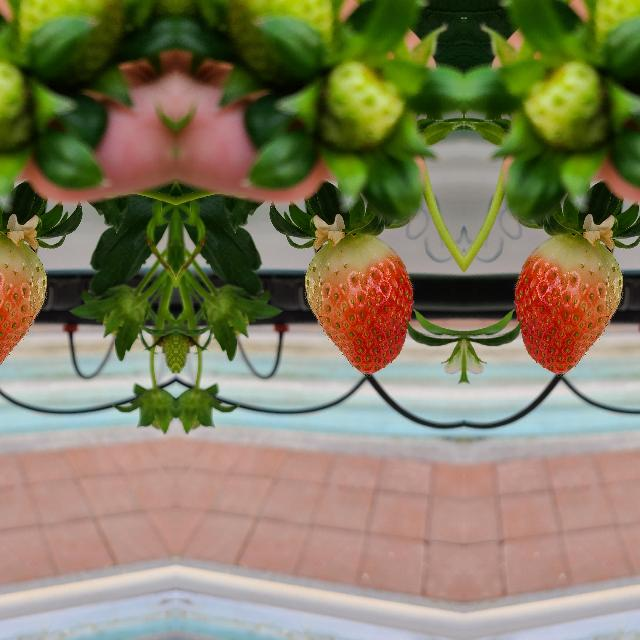Health_100: (302, 234, 414, 378), (512, 234, 624, 378), (0, 234, 48, 378)
